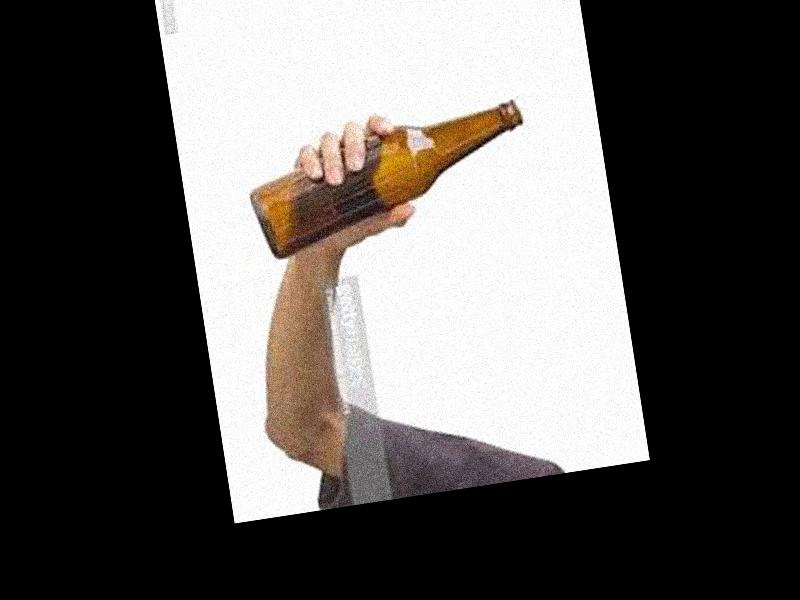Beer: (243, 99, 537, 264)
